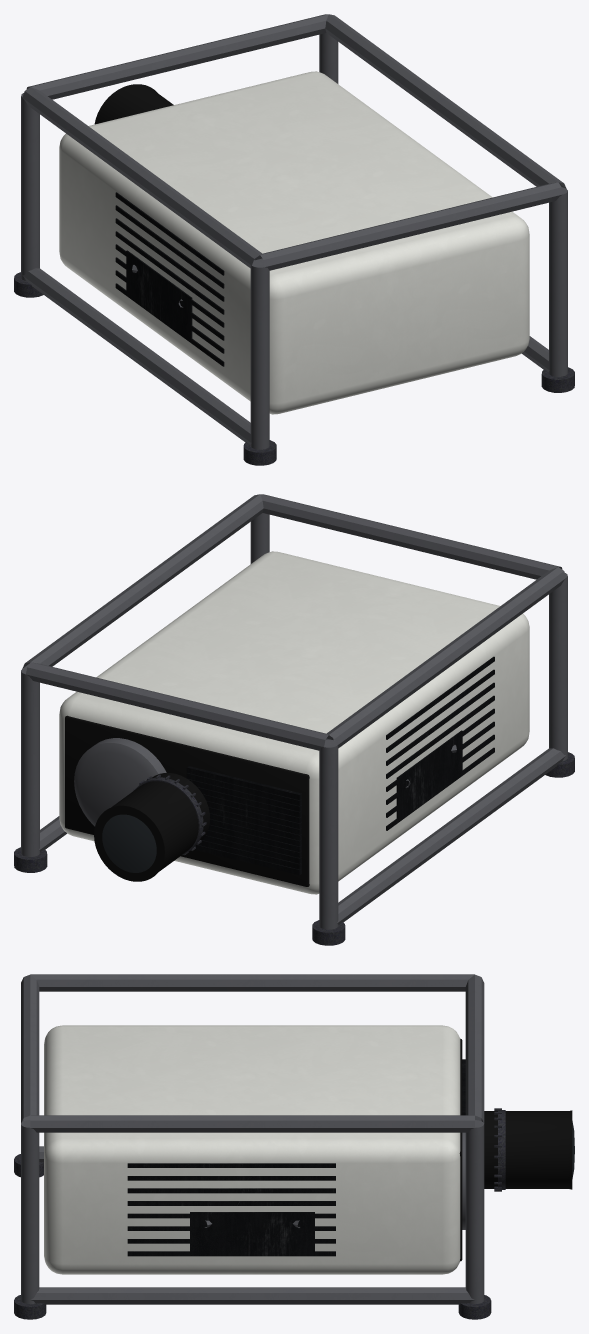
The model's file is projector_christy_30k.gltf.
3 renders of one model, top to bottom at view 1: azimuth 30°, elevation 25°; view 2: azimuth 150°, elevation 25°; view 3: azimuth 270°, elevation 25°, orthographic. The views are drawn at different scales.
Visible parts, largest first — view 1: projector_christy_30k; view 2: projector_christy_30k; view 3: projector_christy_30k.
Part boxes in pixels (x1,y1,x2,y2): projector_christy_30k: (14,14,574,465); projector_christy_30k: (14,494,574,945); projector_christy_30k: (14,974,574,1319).
Size of the model in its own units: 0.79 by 0.47 by 1.21.
7 materials, 6 textured.
